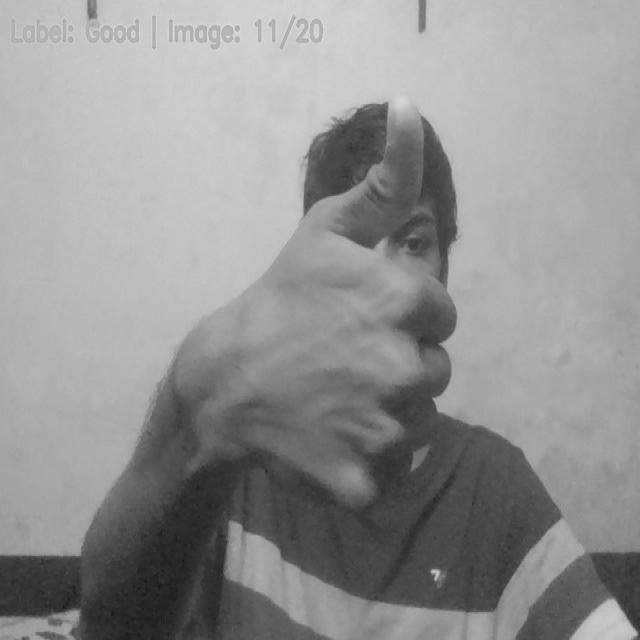Good: (213, 87, 460, 524)
